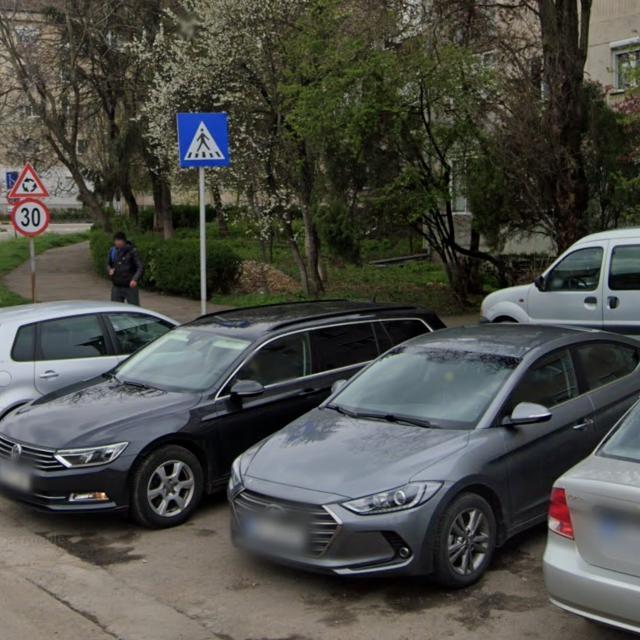forb_speed_over_30: (11, 199, 50, 236)
info_crosswalk: (176, 112, 231, 167)
